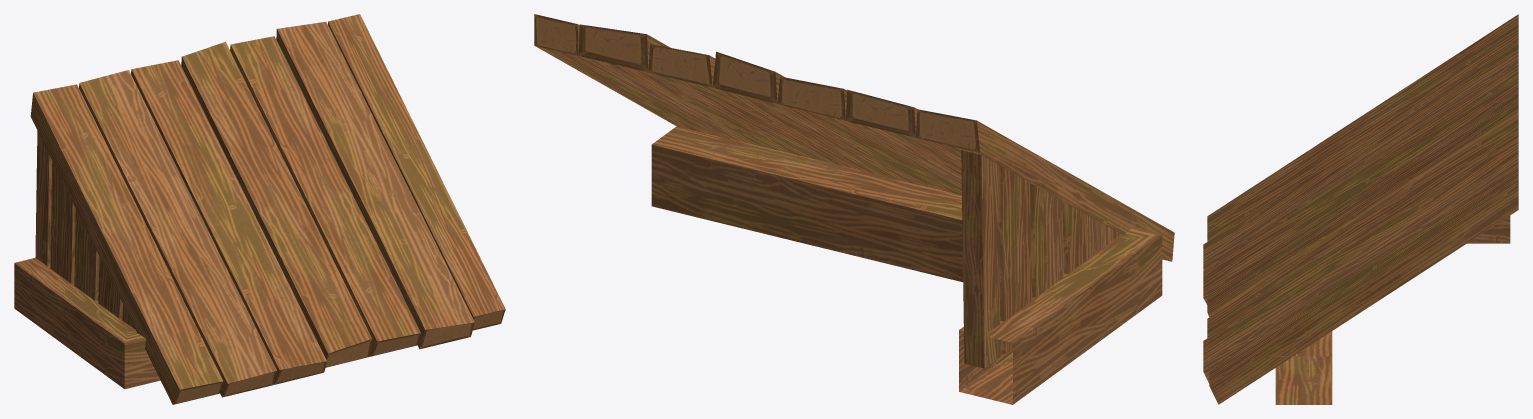
File: Roof_Wooden_2x1_L.gltf
3 renders of one model, left to right at view 1: azimuth 30°, elevation 25°; view 2: azimuth 150°, elevation 25°; view 3: azimuth 270°, elevation 25°, orthographic. The views are drawn at different scales.
Parts seen in each view (by area): view 1: Roof_Wooden_2x1_L; view 2: Roof_Wooden_2x1_L; view 3: Roof_Wooden_2x1_L.
Part boxes in pixels (x1=…): Roof_Wooden_2x1_L: x1=14, y1=14, x2=505, y2=404; Roof_Wooden_2x1_L: x1=534, y1=14, x2=1174, y2=404; Roof_Wooden_2x1_L: x1=1203, y1=14, x2=1518, y2=404.
Size of the model in its own units: 2.13 by 1.25 by 1.56.
2 materials, 2 textured.
